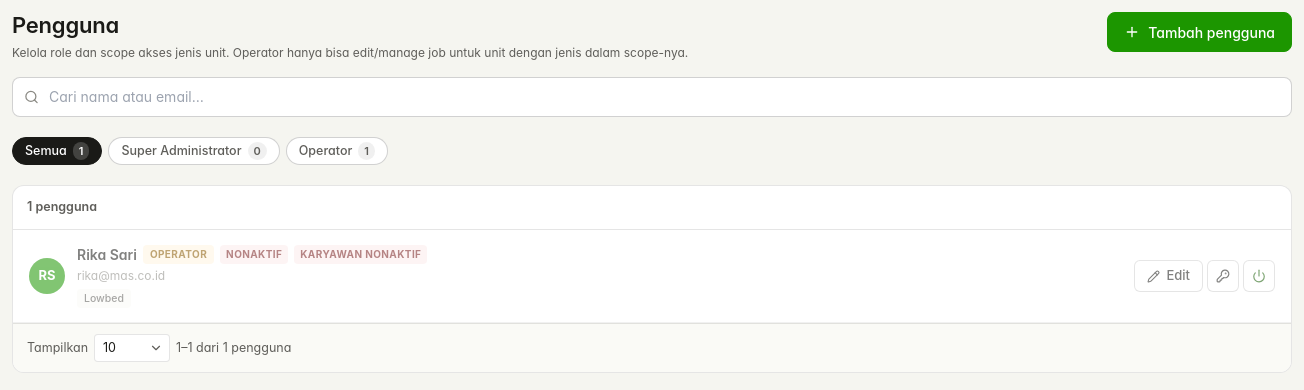
Aktifkan pengguna — status karyawan › karyawan Nonaktif → tidak bisa diaktifkan, tidak ada permintaan ke server
Expected: the text "Karyawan nonaktif" is shown, [294, 245, 427, 264]
Step 1. Click the button titled "Aktifkan" → (1259, 276), box [1243, 260, 1275, 292]
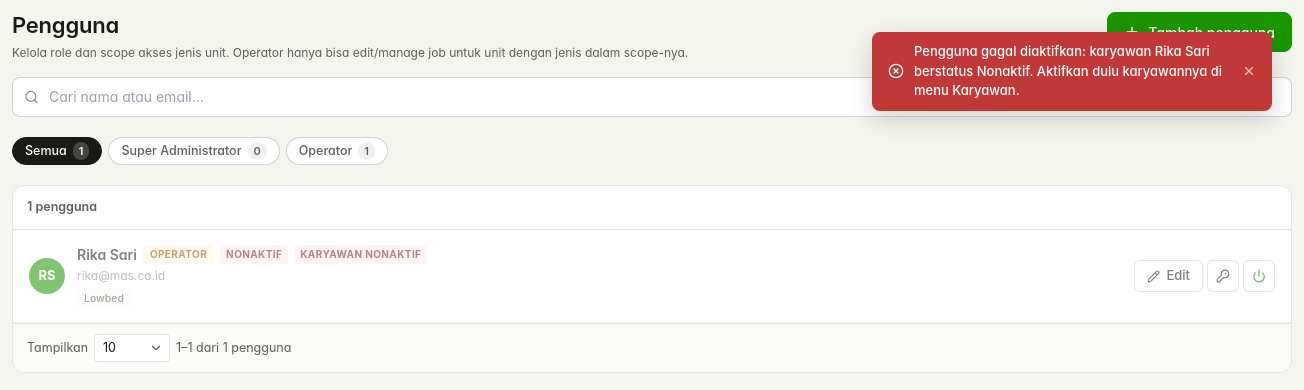
Expected: the text "Pengguna gagal diaktifkan: karyawan Rika Sari berstatus Nonaktif. Aktifkan dulu karyawannya di menu Karyawan." is shown, [914, 43, 1222, 98]
